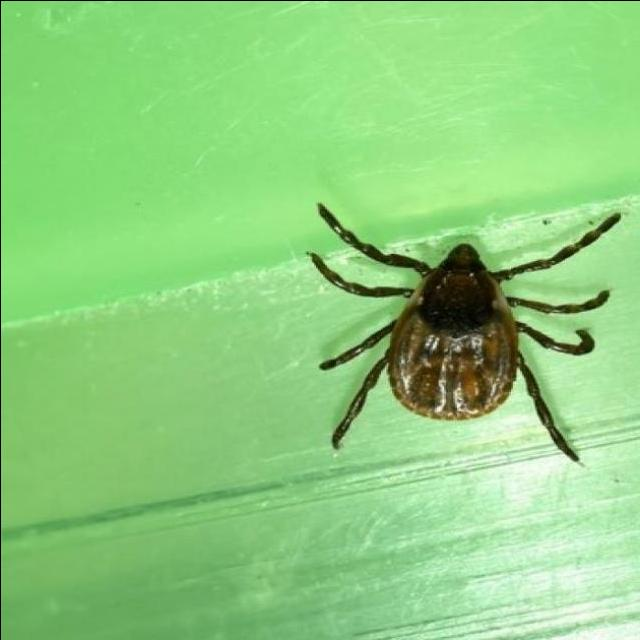Rhipicephalus Sanguineus-F: (307, 201, 621, 460)
